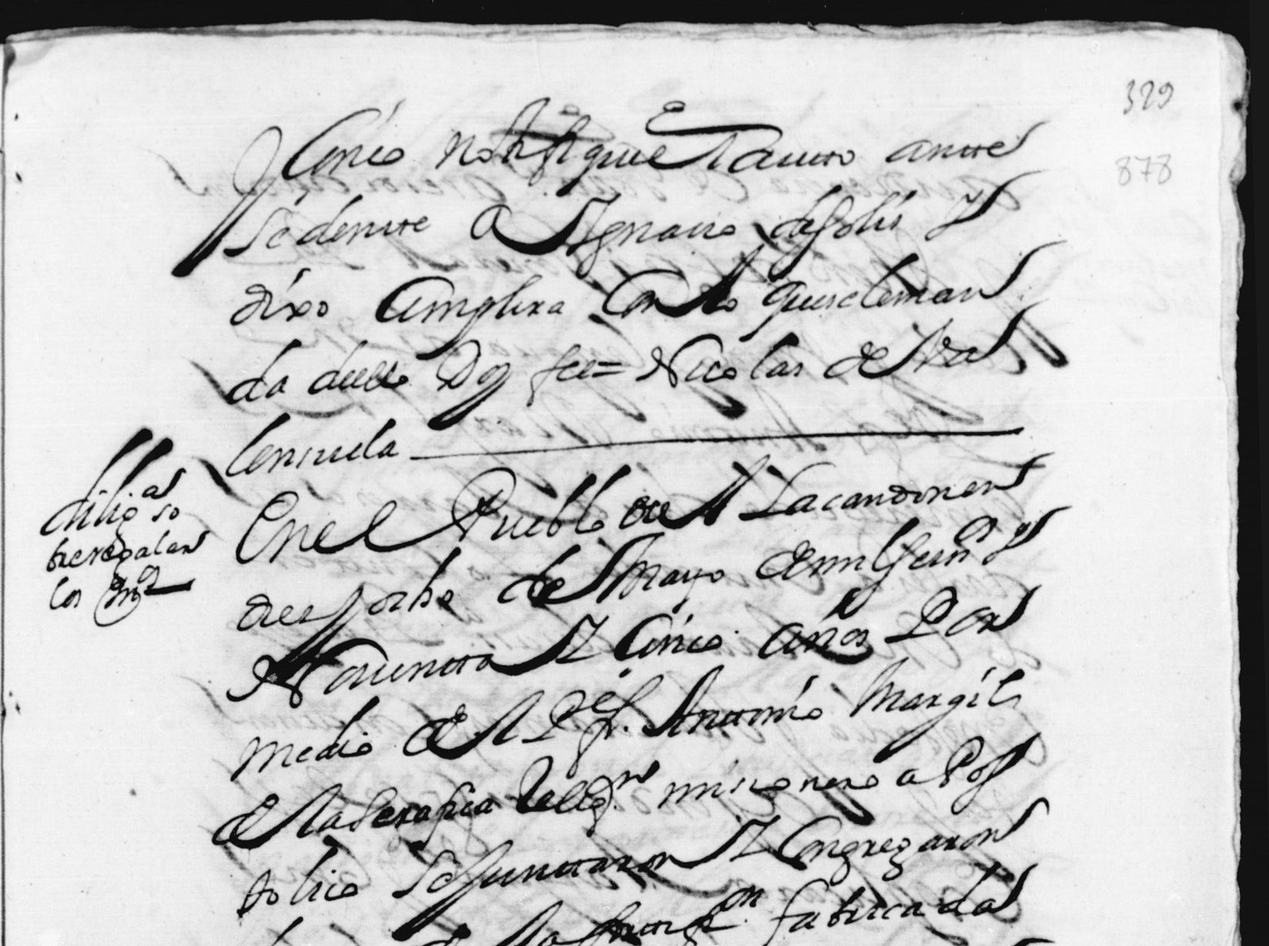lacandon: (738, 451, 1054, 521)
